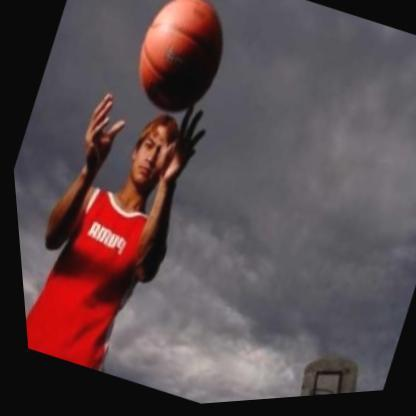basketball: (109, 0, 247, 133)
